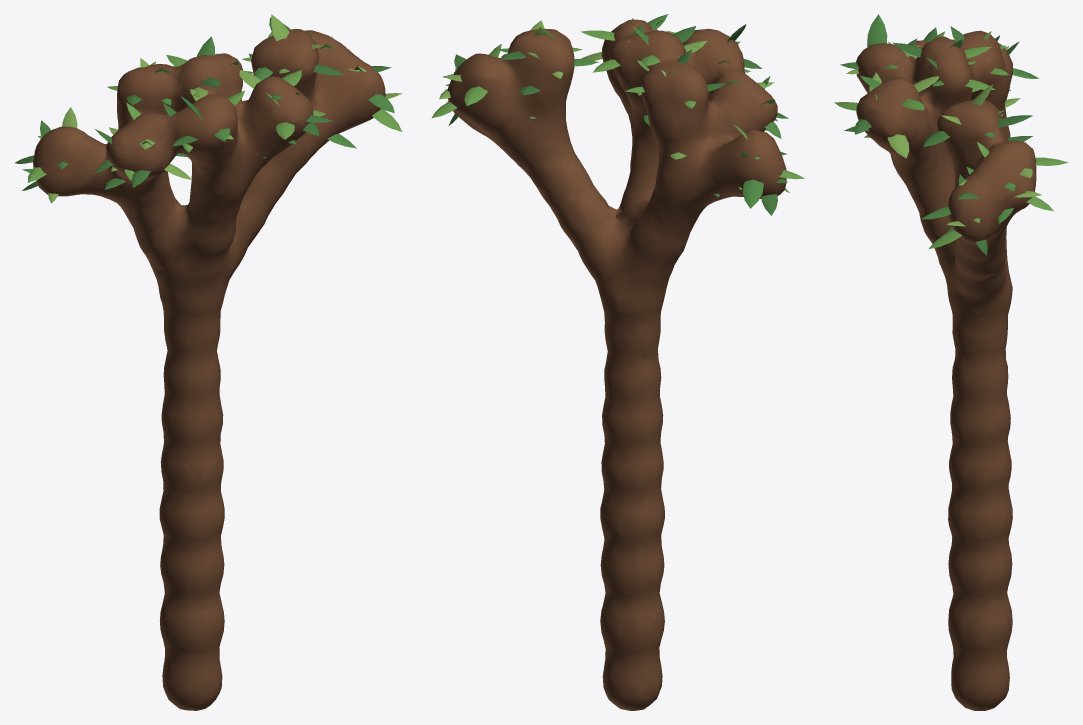
The model's file is plant_cherry_lod1.obj.
3 views of the same model, side by side, from view 1: azimuth 30°, elevation 25°; view 2: azimuth 150°, elevation 25°; view 3: azimuth 270°, elevation 25° (orthographic).
Visible parts, largest first — view 1: branches, leaves; view 2: branches, leaves; view 3: branches, leaves.
Boxes of the visible parts, x1,y1,x2,y2 form: branches: (33,29,385,710); leaves: (15,14,401,203); branches: (447,19,786,710); leaves: (431,14,804,215); branches: (856,30,1036,710); leaves: (834,14,1068,255).
Size of the model in its own units: 3.04 by 5.41 by 1.71.
